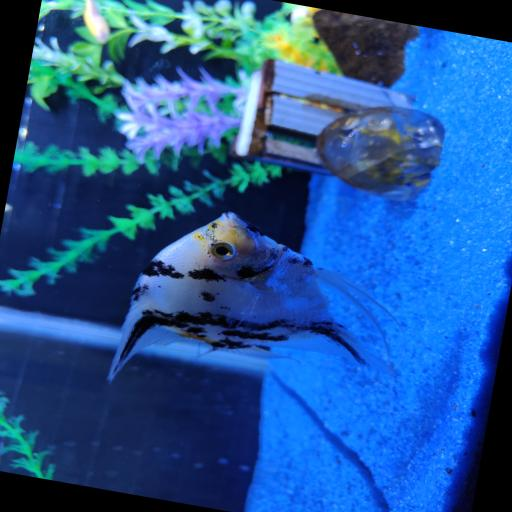Fish: (109, 212, 393, 379), (84, 0, 110, 43)
